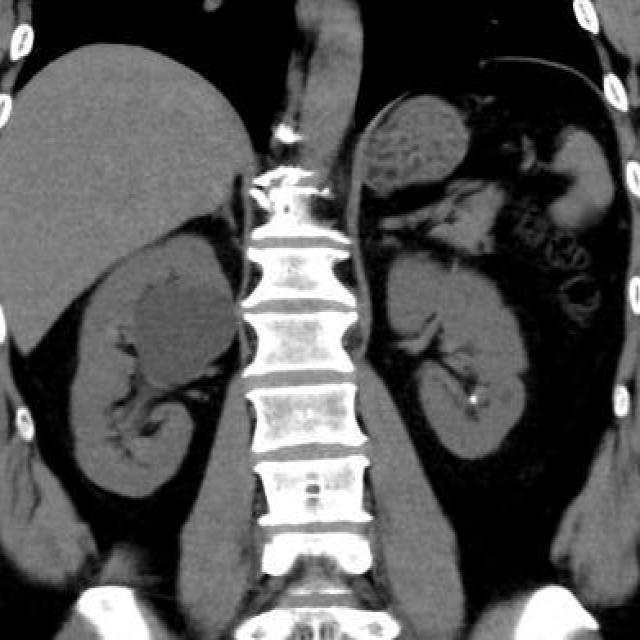Tas_Var: (468, 393, 478, 401), (472, 400, 476, 404)
